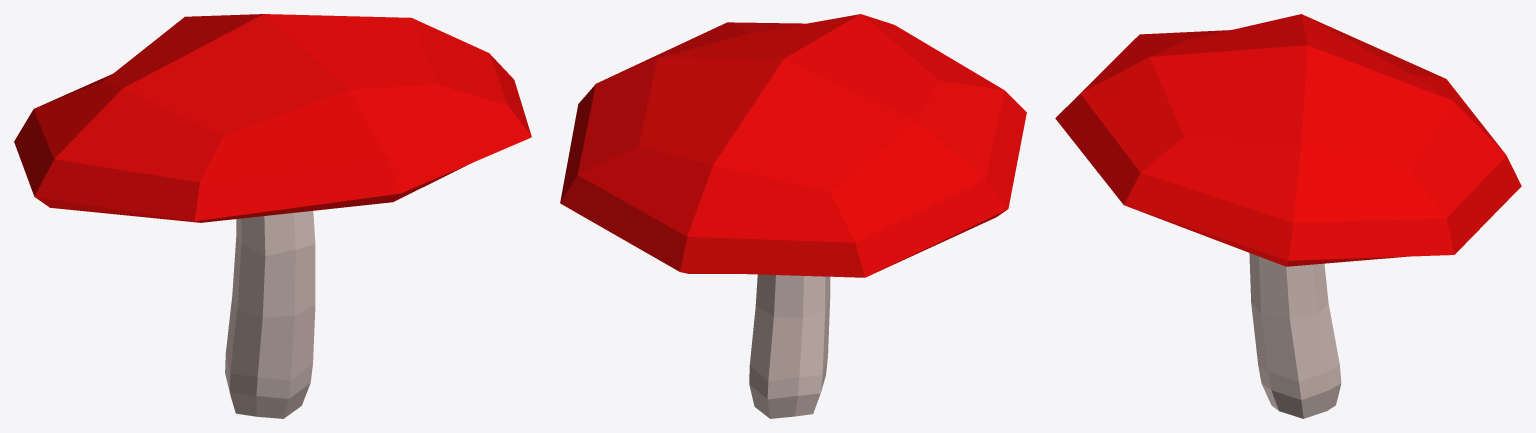
Rendered from MUSH_UMBRELLASMALL_RED.fbx.
3 renders of one model, left to right at view 1: azimuth 30°, elevation 25°; view 2: azimuth 150°, elevation 25°; view 3: azimuth 270°, elevation 25°, orthographic. The views are drawn at different scales.
Parts seen in each view (by area): view 1: pCube17, pCube18; view 2: pCube17, pCube18; view 3: pCube17, pCube18.
Boxes of the visible parts, x1,y1,x2,y2 form: pCube17: (14,14,531,222); pCube18: (225,211,315,418); pCube17: (560,14,1026,277); pCube18: (749,274,830,418); pCube17: (1055,14,1521,266); pCube18: (1249,253,1341,418).
Bounding box in the file's own units: 11.83 × 9.36 × 10.8.
